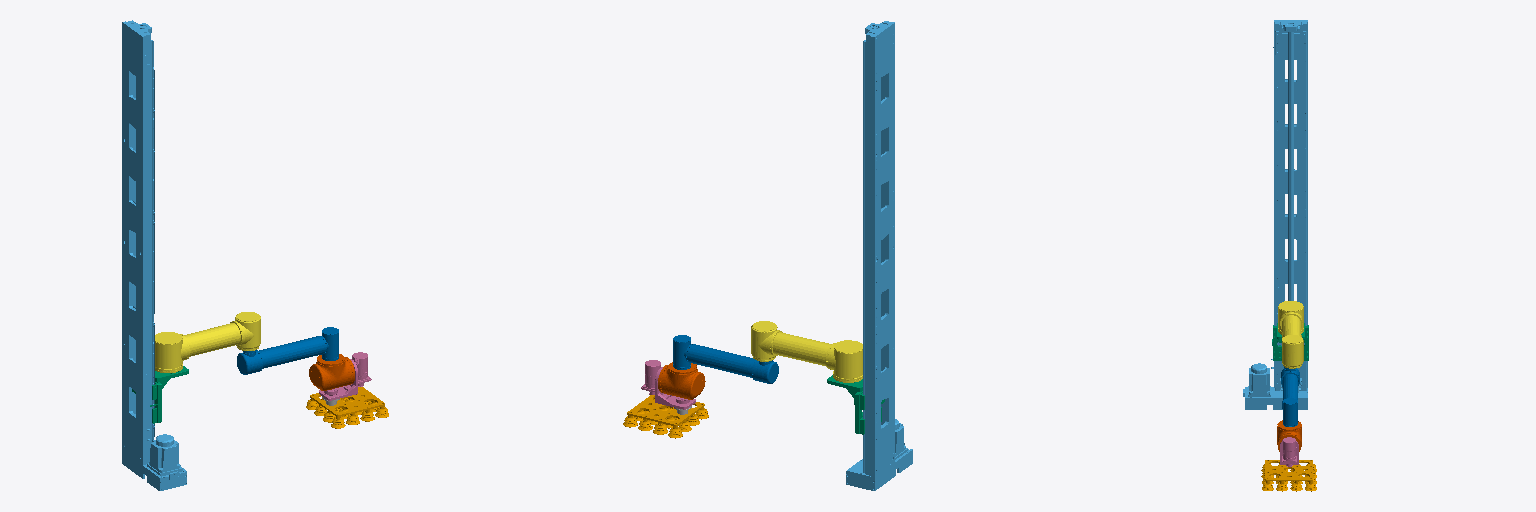
The robot description file, URDF, robot "robot":
<?xml version="1.0" ?>
<!-- This URDF was manually created by [author] at July 7th 2021 -->
<robot name="robot">
  <link name="robot_bottom"/>
  <joint name="bottom_joint" type="fixed">
    <origin rpy="0 0 0" xyz="0 0 0.070"/>
    <parent link="robot_bottom"/>
    <child link="robot_link0"/>
    <axis xyz="0 0 1"/>
  </joint>
  <!-- link0 -->
  <link name="robot_link0">
    <visual>
      <geometry>
        <mesh filename="package://robot_description/meshes/visual/link0.dae"/>
      </geometry>
    </visual>
    <collision>
      <geometry>
        <mesh filename="package://robot_description/meshes/collision/link0.stl"/>
      </geometry>
    </collision>
    <inertial>
      <origin rpy="0 0 0" xyz="0 0 0"/>
      <mass value="165.7"/>
      <inertia ixx="0.3" ixy="0.0" ixz="0.0" iyy="0.3" iyz="0.0" izz="0.3"/>
    </inertial>
  </link>
  <!-- link1 -->
  <link name="robot_link1">
    <visual>
      <geometry>
        <mesh filename="package://robot_description/meshes/visual/link1.dae"/>
      </geometry>
    </visual>
    <collision>
      <geometry>
        <mesh filename="package://robot_description/meshes/collision/link1.stl"/>
      </geometry>
    </collision>
    <inertial>
      <origin rpy="0 0 0" xyz="0 0 0"/>
      <mass value="7.92"/>
      <inertia ixx="0.3" ixy="0.0" ixz="0.0" iyy="0.3" iyz="0.0" izz="0.3"/>
    </inertial>
  </link>
  <!-- joint1 -->
  <joint name="robot_joint1" type="prismatic">
    <origin xyz="0.157 0 0.566" rpy="0 0 0" />
    <parent link="robot_link0"/>
    <child link="robot_link1"/>
    <axis xyz="0 0 1"/>
    <limit effort="1222" lower="0.0" upper="2.15" velocity="0.2"/>
  </joint>
  <!-- link2 -->
  <link name="robot_link2">
    <visual>
      <geometry>
        <mesh filename="package://robot_description/meshes/visual/link2.dae"/>
      </geometry>
    </visual>
    <collision>
      <geometry>
        <mesh filename="package://robot_description/meshes/collision/link2.stl"/>
      </geometry>
    </collision>
    <inertial>
      <origin rpy="0 0 0" xyz="0 0 0"/>
      <mass value="17.08"/>
      <inertia ixx="0.3" ixy="0.0" ixz="0.0" iyy="0.3" iyz="0.0" izz="0.3"/>
    </inertial>
  </link>
  <!-- joint2 -->
  <joint name="robot_joint2" type="revolute">
    <origin xyz="0 0 0.094" rpy="0 0 0" />
    <parent link="robot_link1"/>
    <child link="robot_link2"/>
    <axis xyz="0 0 1"/>
    <limit effort="160" lower="-1.9" upper="1.9" velocity="4.147"/>
  </joint>
  <!-- link3 -->
  <link name="robot_link3">
    <visual>
      <geometry>
        <mesh filename="package://robot_description/meshes/visual/link3.dae"/>
      </geometry>
    </visual>
    <collision>
      <geometry>
        <mesh filename="package://robot_description/meshes/collision/link3.stl"/>
      </geometry>
    </collision>
    <inertial>
      <origin rpy="0 0 0" xyz="0 0 0"/>
      <mass value="7.08"/>
      <inertia ixx="0.3" ixy="0.0" ixz="0.0" iyy="0.3" iyz="0.0" izz="0.3"/>
    </inertial>
  </link>
  <!-- joint3 -->
  <joint name="robot_joint3" type="revolute">
    <origin xyz="0.49999 -0.0036478 -0.1833" rpy="0 0 0" />
    <parent link="robot_link2"/>
    <child link="robot_link3"/>
    <axis xyz="0 0 1"/>
    <limit effort="84" lower="-2.6" upper="2.6" velocity="3.665"/>
  </joint>
  <!-- link4 -->
  <link name="robot_link4">
    <visual>
      <geometry>
        <mesh filename="package://robot_description/meshes/visual/link4.dae"/>
      </geometry>
    </visual>
    <collision>
      <geometry>
        <mesh filename="package://robot_description/meshes/collision/link4.stl"/>
      </geometry>
    </collision>
    <inertial>
      <origin rpy="0 0 0" xyz="0 0 0"/>
      <mass value="8.28"/>
      <inertia ixx="0.3" ixy="0.0" ixz="0.0" iyy="0.3" iyz="0.0" izz="0.3"/>
    </inertial>
  </link>
  <!-- joint4 -->
  <joint name="robot_joint4" type="revolute">
    <origin xyz="0.49997 -0.005232 -0.187" rpy="0 0 1.5707963267948966" />
    <parent link="robot_link3"/>
    <child link="robot_link4"/>
    <axis xyz="0 0 1"/>
    <limit effort="30" lower="-2" upper="2" velocity="4.974"/>
  </joint>
  <!-- link5 -->
  <link name="robot_link5">
    <visual>
      <geometry>
        <mesh filename="package://robot_description/meshes/visual/link5.dae"/>
      </geometry>
    </visual>
    <collision>
      <geometry>
        <mesh filename="package://robot_description/meshes/collision/link5.stl"/>
      </geometry>
    </collision>
    <inertial>
      <origin rpy="0 0 0" xyz="0 0 0"/>
      <mass value="5.4"/>
      <inertia ixx="0.3" ixy="0.0" ixz="0.0" iyy="0.3" iyz="0.0" izz="0.3"/>
    </inertial>
  </link>
  <!-- joint5 -->
  <joint name="robot_joint5" type="revolute">
    <origin xyz="-0.0013802 -0.13189 0" rpy="0 1.5707963267948966 0" />
    <parent link="robot_link4"/>
    <child link="robot_link5"/>
    <axis xyz="0 -1 0"/>
    <limit effort="528" lower="-1.85" upper="1.85" velocity="1.623"/>
  </joint>
  <!-- link6 -->
  <link name="robot_link6">
    <visual>
      <geometry>
        <mesh filename="package://robot_description/meshes/visual/link6.dae"/>
      </geometry>
    </visual>
    <collision>
      <geometry>
        <mesh filename="package://robot_description/meshes/collision/link6.stl"/>
      </geometry>
    </collision>
    <inertial>
      <origin rpy="0 0 0" xyz="0 0 0"/>
      <mass value="2.0"/>
      <inertia ixx="0.3" ixy="0.0" ixz="0.0" iyy="0.3" iyz="0.0" izz="0.3"/>
    </inertial>
  </link>
  <!-- joint6 -->
  <joint name="robot_joint6" type="revolute">
    <origin xyz="0.13687 0.13047 0" rpy="-1.5707963267948966 0 0" />
    <parent link="robot_link5"/>
    <child link="robot_link6"/>
    <axis xyz="-1 0 0"/>
    <limit effort="84" lower="-2" upper="2" velocity="3.665"/>
  </joint>
  <!-- gripper -->
  <link name="robot_gripper">
    <visual>
      <geometry>
        <mesh filename="package://robot_description/meshes/visual/gripper.dae"/>
      </geometry>
    </visual>
    <collision>
      <geometry>
        <mesh filename="package://robot_description/meshes/collision/gripper.stl"/>
      </geometry>
    </collision>
    <inertial>
      <origin rpy="0 0 0" xyz="0 0 0"/>
      <mass value="2.74"/>
      <inertia ixx="0.3" ixy="0.0" ixz="0.0" iyy="0.3" iyz="0.0" izz="0.3"/>
    </inertial>
  </link>
  <!-- joint7 -->
  <joint name="robot_joint7" type="fixed">
    <origin xyz="0.031498 0.0 0" rpy="0 1.5707963267948966 0" />
    <parent link="robot_link6"/>
    <child link="robot_gripper"/>
    <axis xyz="0 0 1"/>
  </joint>
  <!-- grasping frame -->
  <link name="tcp"/>
  <joint name="tcp_joint" type="fixed">
    <origin rpy="0 0 0" xyz="0.1 0 0.06887"/>
    <parent link="robot_gripper"/>
    <child link="tcp"/>
    <axis xyz="0 0 1"/>
  </joint>
</robot>

--- Render facts (derived) ---
Views: 3 orthographic renders of the robot side by side, from view 1: azimuth 30°, elevation 25°; view 2: azimuth 150°, elevation 25°; view 3: azimuth 270°, elevation 25°.
Robot: robot — 10 links, 9 joints (5 revolute, 1 prismatic, 3 fixed); root link robot_bottom; default pose: every joint at zero.
Links seen in each view (by area): view 1: robot_link0, robot_link2, robot_link3, robot_gripper, robot_link4, robot_link5, robot_link1; view 2: robot_link0, robot_link2, robot_link3, robot_gripper, robot_link4, robot_link5, robot_link1; view 3: robot_link0, robot_link2, robot_gripper, robot_link3.
Link boxes in pixels (x1=…): robot_link0: x1=122, y1=20, x2=186, y2=490; robot_link2: x1=155, y1=312, x2=260, y2=372; robot_link3: x1=237, y1=327, x2=338, y2=374; robot_gripper: x1=306, y1=387, x2=388, y2=428; robot_link4: x1=309, y1=354, x2=354, y2=390; robot_link5: x1=319, y1=352, x2=371, y2=400; robot_link1: x1=132, y1=366, x2=188, y2=423; robot_link0: x1=846, y1=21, x2=912, y2=490; robot_link2: x1=751, y1=321, x2=862, y2=382; robot_link3: x1=673, y1=335, x2=778, y2=383; robot_gripper: x1=623, y1=395, x2=708, y2=438; robot_link4: x1=658, y1=362, x2=705, y2=399; robot_link5: x1=641, y1=360, x2=695, y2=409; robot_link1: x1=827, y1=375, x2=884, y2=434; robot_link0: x1=1243, y1=20, x2=1307, y2=409; robot_link2: x1=1278, y1=301, x2=1303, y2=368; robot_gripper: x1=1261, y1=460, x2=1316, y2=491; robot_link3: x1=1281, y1=367, x2=1299, y2=426.
Bounding box of the posed robot: 1.49 × 0.4661 × 2.6 m (x, y, z).
8 mesh visuals loaded from 8 distinct referenced files (8 Collada DAE).
